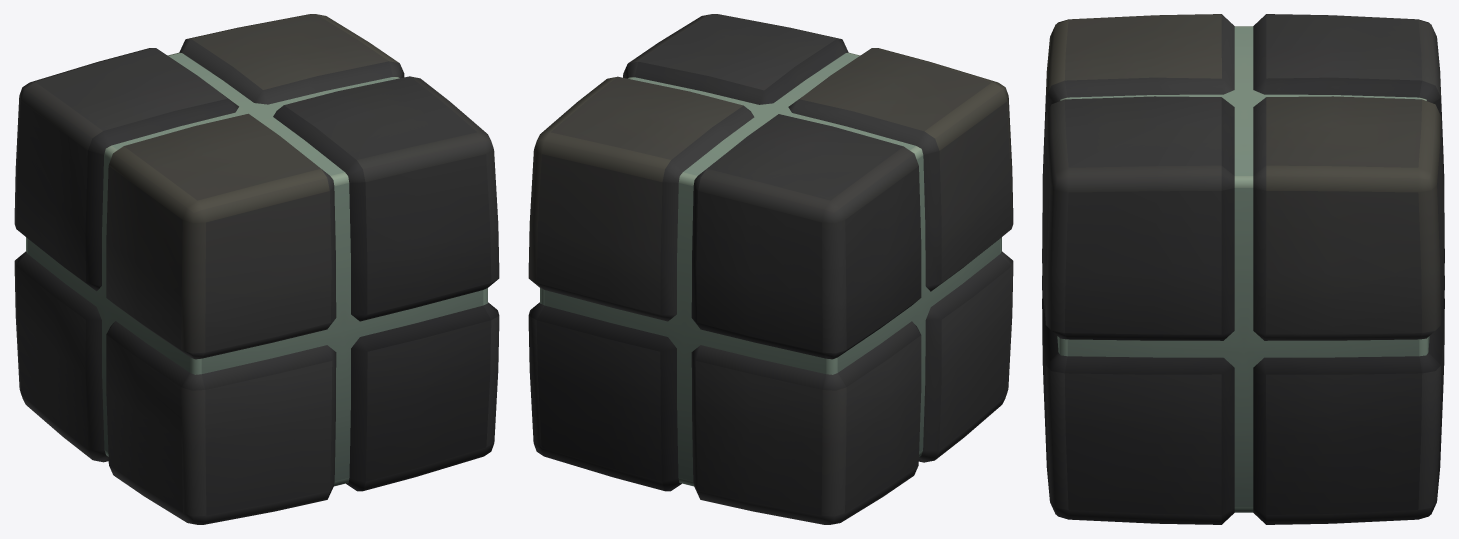
Rendered from block_brick_black_1.fbx.
3 renders of one model, left to right at view 1: azimuth 30°, elevation 25°; view 2: azimuth 150°, elevation 25°; view 3: azimuth 270°, elevation 25°, orthographic. The views are drawn at different scales.
Visible parts, largest first — view 1: block_brick_black_1_LOD0; view 2: block_brick_black_1_LOD0; view 3: block_brick_black_1_LOD0.
Boxes of the visible parts, <box> form: block_brick_black_1_LOD0: <box>14,14,499,524</box>; block_brick_black_1_LOD0: <box>528,14,1013,524</box>; block_brick_black_1_LOD0: <box>1042,14,1444,524</box>.
Size of what is drawn, in the model's own units: 108 by 108 by 108.
